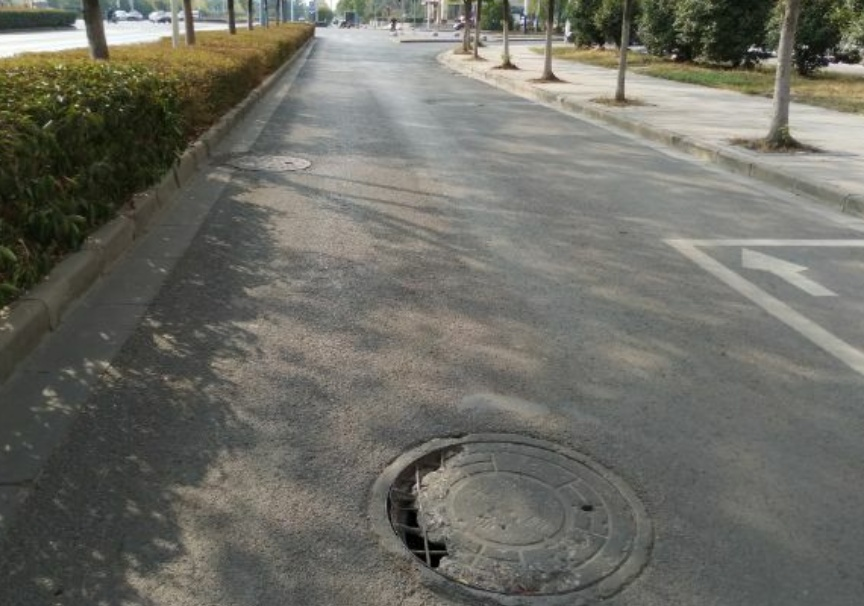broke: (369, 428, 656, 606)
